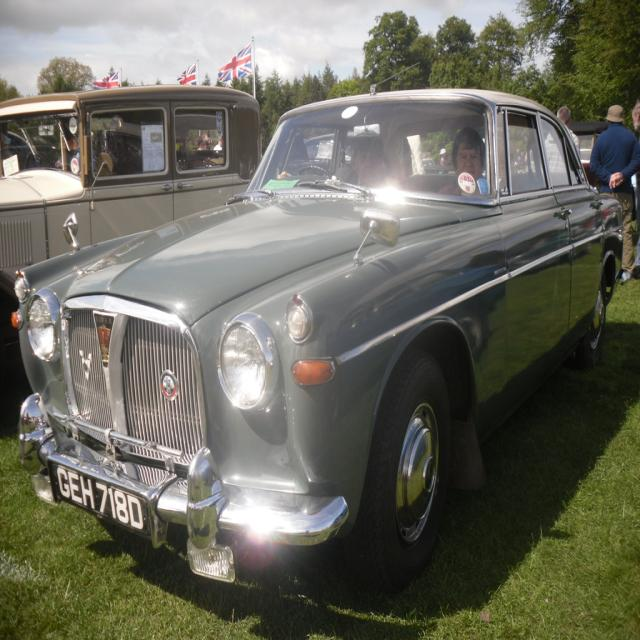car: (11, 59, 630, 583)
